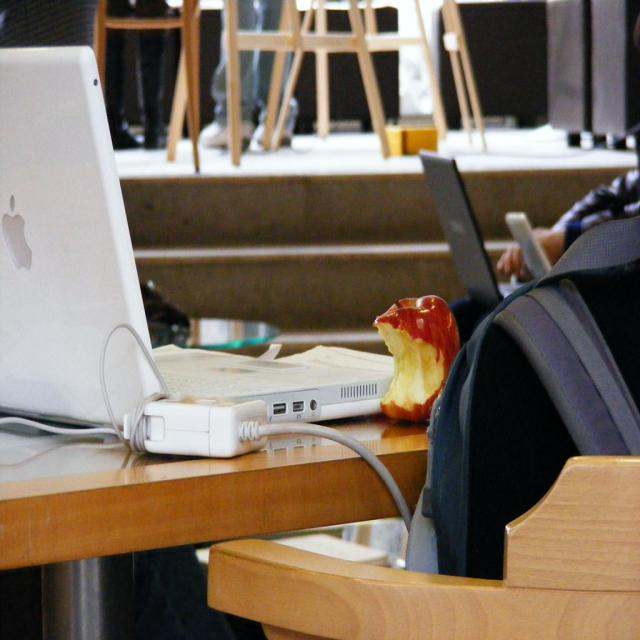Healty Apple: (369, 298, 460, 424)
